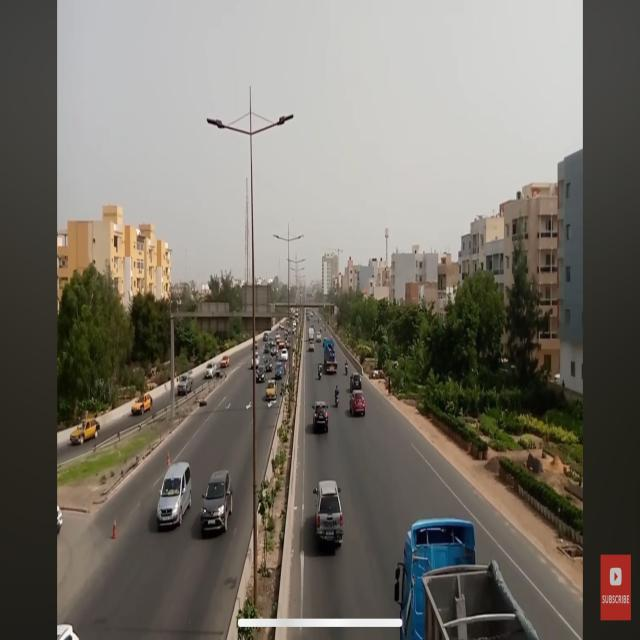camion: (394, 509, 541, 640), (323, 335, 340, 376)
moto: (334, 391, 342, 410), (318, 366, 324, 380), (345, 365, 350, 379)
particulier: (157, 459, 194, 529), (200, 469, 235, 538), (315, 476, 346, 548), (313, 401, 331, 434), (350, 388, 367, 420), (178, 372, 196, 398), (350, 370, 365, 395), (204, 359, 219, 383), (256, 362, 268, 387), (276, 362, 285, 383), (316, 331, 323, 345), (309, 339, 315, 353)
taxi: (70, 416, 102, 447), (133, 392, 155, 417), (265, 377, 279, 405), (221, 355, 230, 371)
